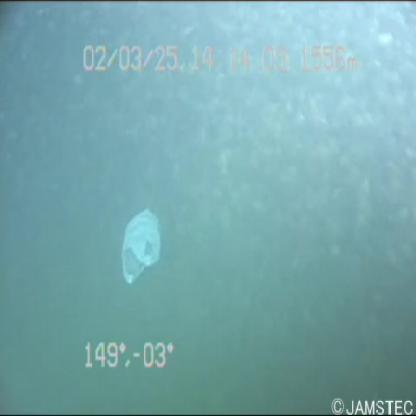Rác: (111, 202, 171, 294)
